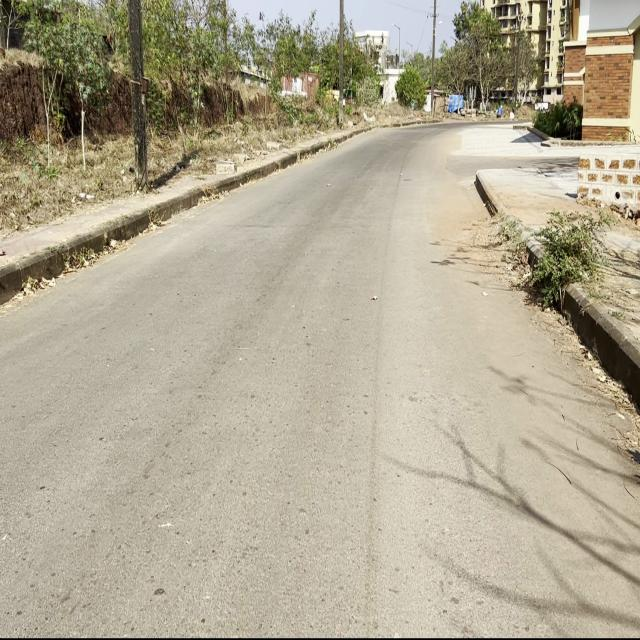Road: (0, 125, 640, 639)
